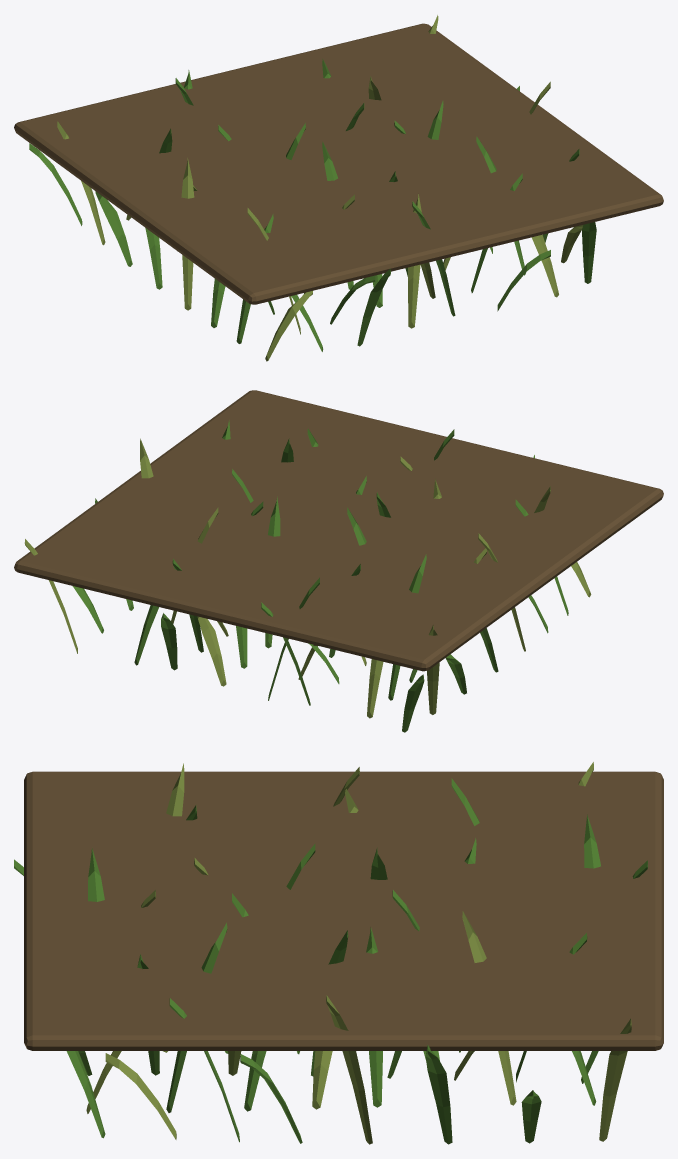
Rendered from source-edit.glb.
The picture shows the model from 3 angles, top to bottom: view 1: azimuth 30°, elevation 25°; view 2: azimuth 150°, elevation 25°; view 3: azimuth 270°, elevation 25°; orthographic projection. The views are drawn at different scales.
Parts seen in each view (by area): view 1: GRASS_Soil, GRASS_Blade_24, GRASS_Blade_40, GRASS_Blade_7, GRASS_Blade_3, GRASS_Blade_2, GRASS_Blade_0, GRASS_Blade_32, GRASS_Blade_6; view 2: GRASS_Soil, GRASS_Blade_60, GRASS_Blade_61, GRASS_Blade_57, GRASS_Blade_56, GRASS_Blade_48, GRASS_Blade_49; view 3: GRASS_Soil, GRASS_Blade_63, GRASS_Blade_47, GRASS_Blade_39, GRASS_Blade_54, GRASS_Blade_14, GRASS_Blade_38, GRASS_Blade_15, GRASS_Blade_30, GRASS_Blade_7, GRASS_Blade_55, GRASS_Blade_31 (+4 smaller).
Boxes of the visible parts, bbox=[...] form: GRASS_Soil: bbox=[14, 23, 663, 304]; GRASS_Blade_24: bbox=[181, 158, 194, 310]; GRASS_Blade_40: bbox=[95, 191, 132, 266]; GRASS_Blade_7: bbox=[582, 222, 596, 283]; GRASS_Blade_3: bbox=[408, 194, 421, 328]; GRASS_Blade_2: bbox=[357, 268, 390, 346]; GRASS_Blade_0: bbox=[265, 291, 312, 361]; GRASS_Blade_32: bbox=[145, 228, 162, 289]; GRASS_Blade_6: bbox=[531, 235, 558, 297]; GRASS_Soil: bbox=[14, 390, 663, 671]; GRASS_Blade_60: bbox=[197, 616, 226, 686]; GRASS_Blade_61: bbox=[161, 613, 177, 670]; GRASS_Blade_57: bbox=[367, 659, 383, 718]; GRASS_Blade_56: bbox=[402, 674, 424, 732]; GRASS_Blade_48: bbox=[427, 625, 439, 714]; GRASS_Blade_49: bbox=[388, 554, 426, 700]; GRASS_Soil: bbox=[24, 771, 663, 1050]; GRASS_Blade_63: bbox=[599, 1018, 631, 1141]; GRASS_Blade_47: bbox=[425, 1045, 452, 1144]; GRASS_Blade_39: bbox=[326, 995, 372, 1144]; GRASS_Blade_54: bbox=[462, 911, 516, 1105]; GRASS_Blade_14: bbox=[166, 922, 227, 1112]; GRASS_Blade_38: bbox=[366, 927, 382, 1107]; GRASS_Blade_15: bbox=[105, 1053, 176, 1139]; GRASS_Blade_30: bbox=[312, 1051, 332, 1109]; GRASS_Blade_7: bbox=[66, 1051, 105, 1138]; GRASS_Blade_55: bbox=[521, 1090, 541, 1143]; GRASS_Blade_31: bbox=[240, 1054, 302, 1143].
Bounding box in the file's own units: 0.911 × 0.27 × 0.9142.
